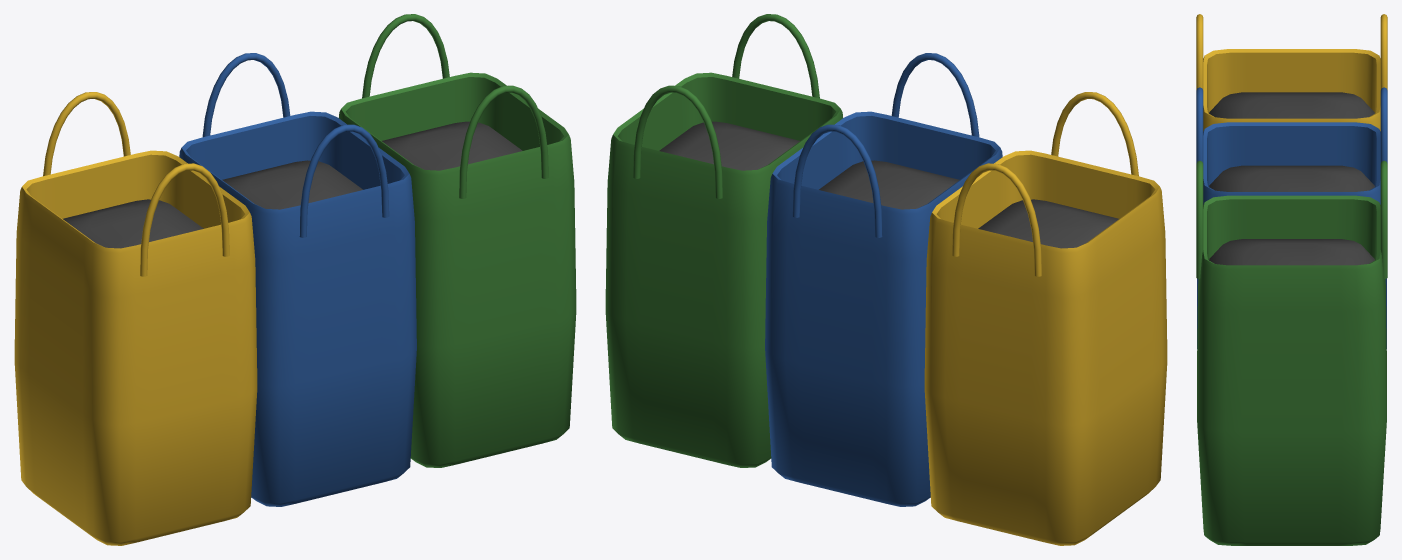
File: recWXjqh0JCDMNFdn.glb
The picture shows the model from 3 angles, left to right: view 1: azimuth 30°, elevation 25°; view 2: azimuth 150°, elevation 25°; view 3: azimuth 270°, elevation 25°; orthographic projection. The views are drawn at different scales.
Visible parts, largest first — view 1: Sacs_Tri_Corps; view 2: Sacs_Tri_Corps; view 3: Sacs_Tri_Corps.
Boxes of the visible parts, x1,y1,x2,y2 form: Sacs_Tri_Corps: (14,14,576,545); Sacs_Tri_Corps: (605,14,1167,545); Sacs_Tri_Corps: (1196,14,1387,545).
Bounding box in the file's own units: 0.872 × 0.646 × 0.32.
